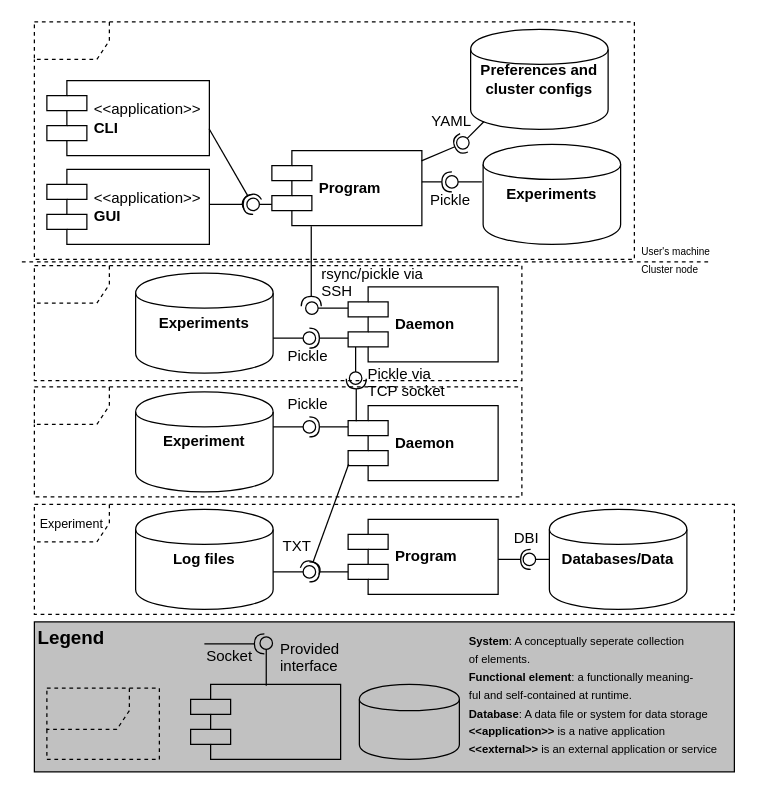
The diagram is 764 pixels wide and 794 high, and some of its shapes have lost their labels. The shapes that lost their labels are listed below. From the top down, each one's box as (x1, y1, x2, y2) in pixels, then its label:
(33, 21, 634, 259): Neroman
(33, 264, 522, 381): Neromum
(33, 386, 522, 497): Nerokid
(46, 687, 159, 759): System
(189, 683, 341, 759): Functional element
(358, 683, 459, 759): Database
